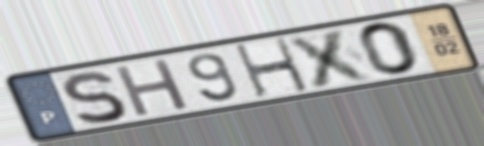0: (355, 20, 424, 78)
9: (185, 52, 241, 104)
H: (230, 35, 313, 101), (111, 56, 193, 120)
S: (59, 69, 130, 127)
X: (283, 25, 379, 90)
